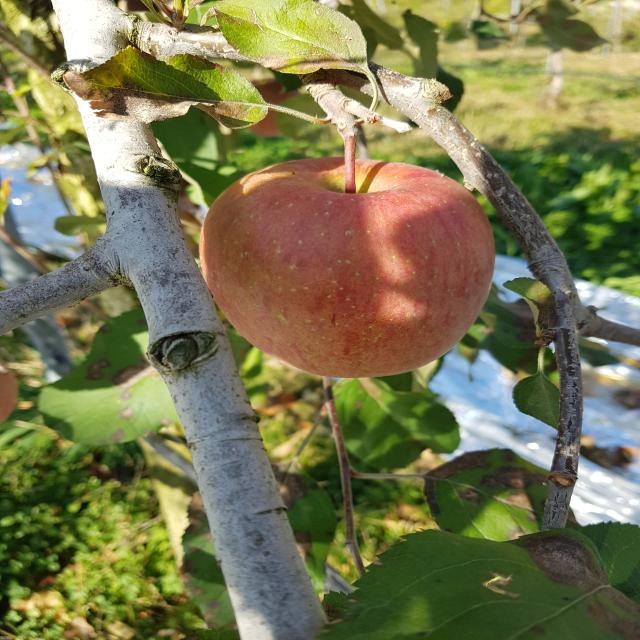fresh: (184, 150, 512, 388)
